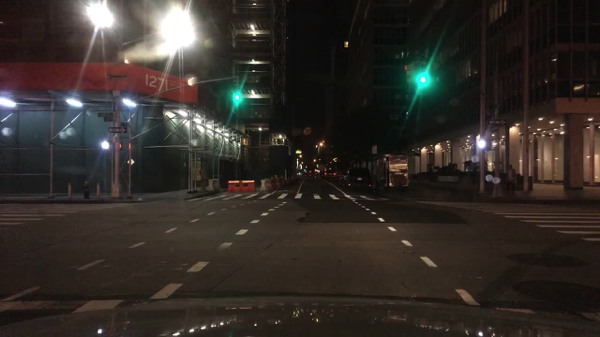car: (341, 167, 372, 192), (324, 166, 338, 180), (308, 169, 315, 177), (318, 172, 324, 178), (314, 171, 319, 178), (304, 170, 308, 175)
person: (506, 165, 515, 195)
traffic light: (404, 62, 415, 86), (419, 61, 426, 83), (102, 140, 113, 150), (119, 142, 131, 151), (480, 140, 489, 149), (234, 94, 240, 102)
traffic sign: (96, 112, 114, 118), (488, 119, 506, 125), (109, 128, 126, 133), (490, 125, 499, 133), (127, 159, 135, 166), (371, 145, 376, 155), (304, 127, 311, 134), (104, 118, 114, 122), (333, 157, 337, 163)
truck: (374, 155, 411, 192)
